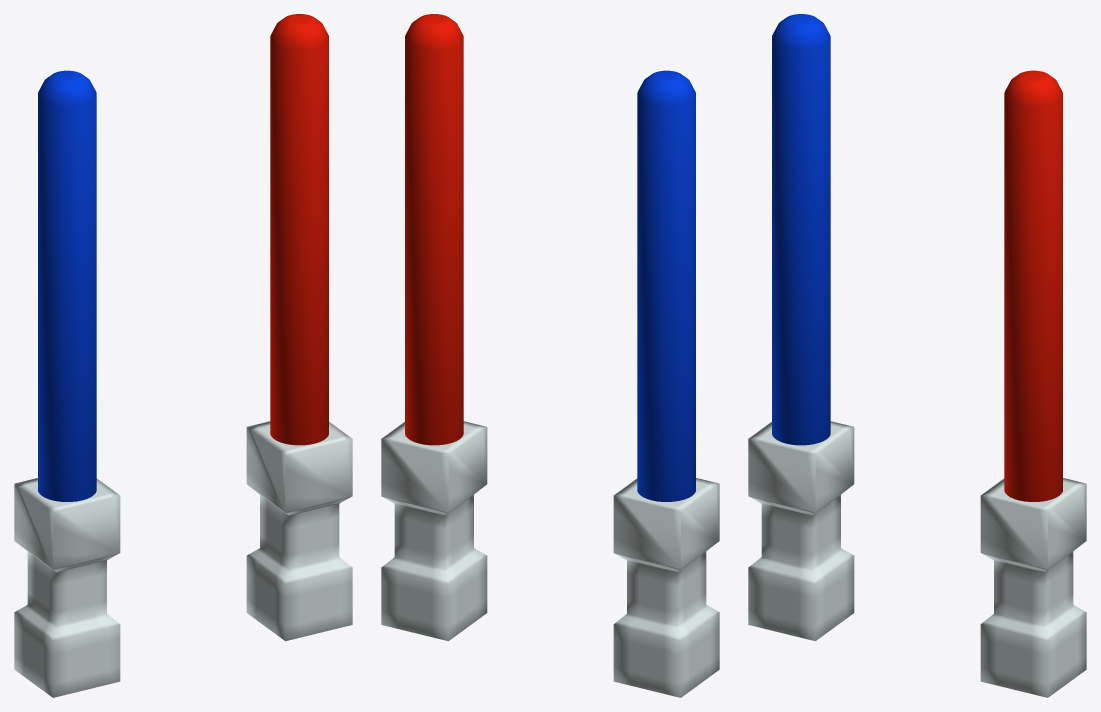
The model's file is lego laser sabre.fbx.
The picture shows the model from 3 angles, left to right: view 1: azimuth 30°, elevation 25°; view 2: azimuth 150°, elevation 25°; view 3: azimuth 330°, elevation 25°; orthographic projection.
Visible parts, largest first — view 1: Cube.001, Cube; view 2: Cube.001, Cube; view 3: Cube, Cube.001.
Part boxes in pixels (x1,y1,x2,y2): Cube.001: [14, 70, 120, 697]; Cube: [246, 14, 352, 641]; Cube.001: [613, 70, 719, 697]; Cube: [381, 14, 487, 641]; Cube: [980, 70, 1086, 697]; Cube.001: [748, 14, 854, 641].
Size of the model in its own units: 443 by 847 by 99.62.
